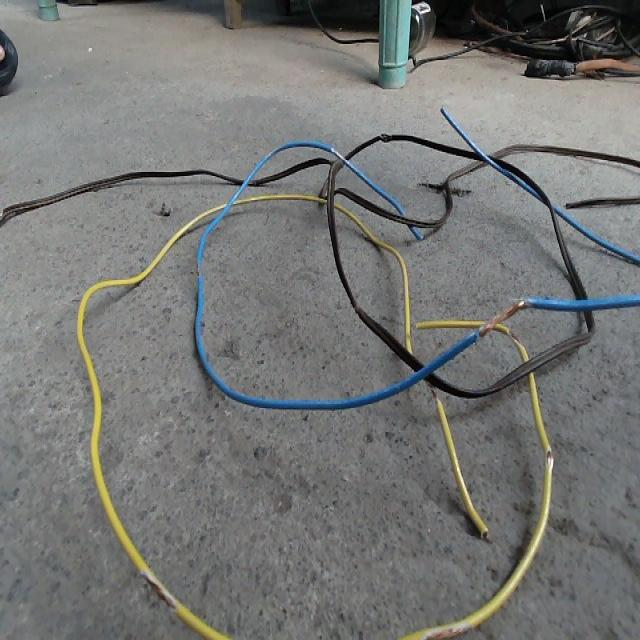-: (475, 297, 525, 340), (508, 327, 522, 345), (545, 447, 553, 473)
